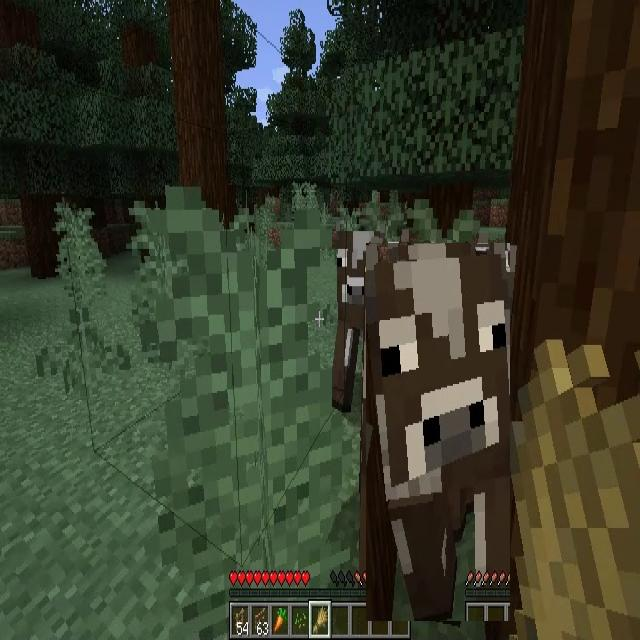cow: (366, 243, 510, 621), (332, 231, 384, 411)
